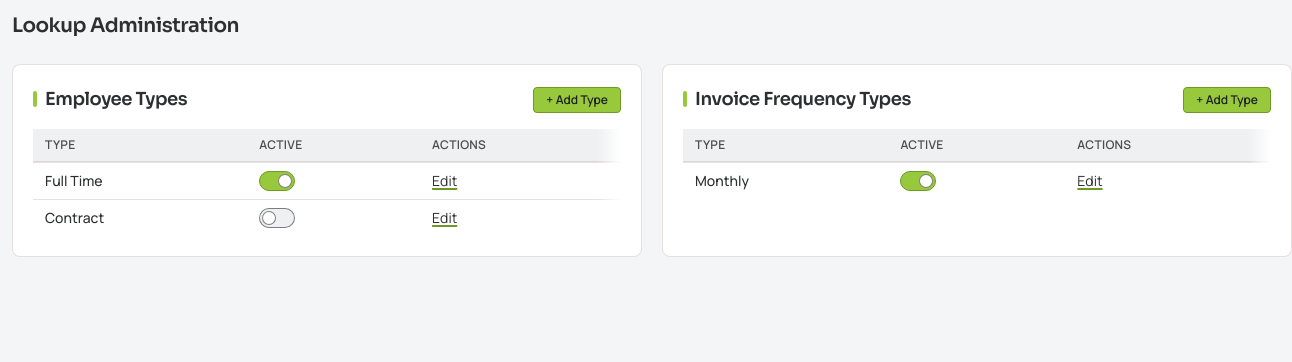
LookupAdminPage › keeps the editor open when a rename is rejected, so the typed name is not lost
The width and height of the screenshot is (1292, 362).
Expected: the cell "Full Time" is shown, [33, 163, 247, 200]
Click the button named "edit full time".
click(445, 181)  # box [432, 171, 457, 191]
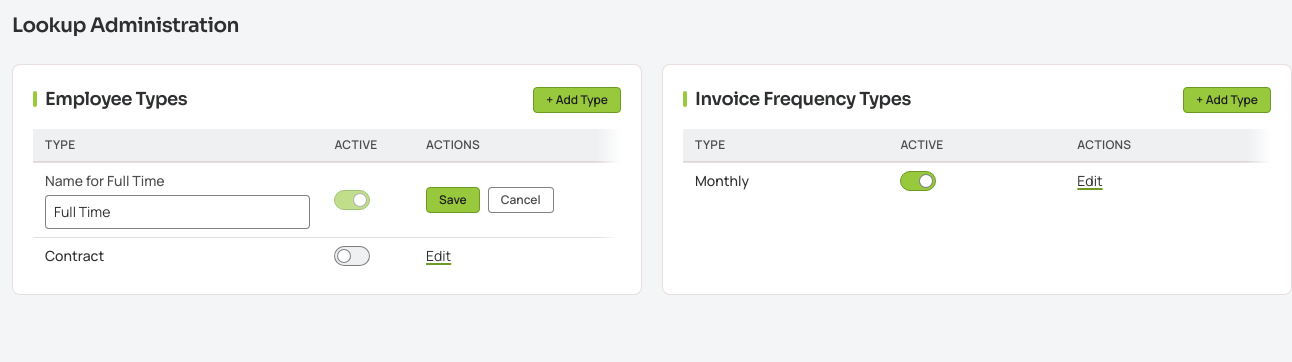
Replace the text in the field labelled "Name for Full Time" with "Contract" at coordinates (178, 212), box [45, 195, 310, 229]
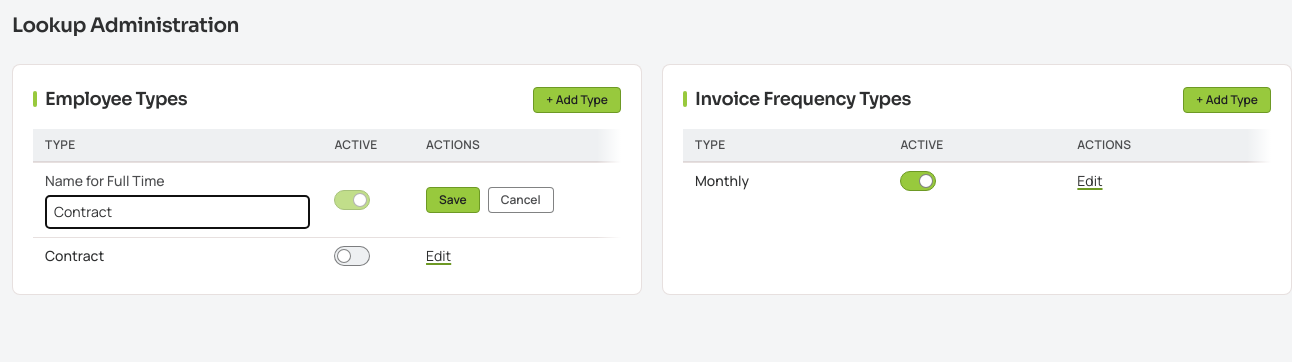
Click the button named "save full time".
click(453, 200)  # box [426, 187, 480, 213]
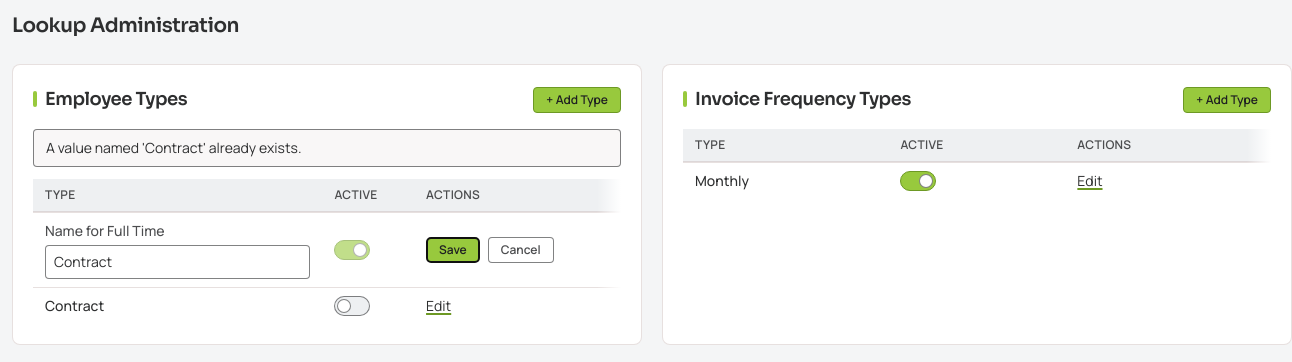
Now the message shows "already exists", box [46, 138, 302, 157]
